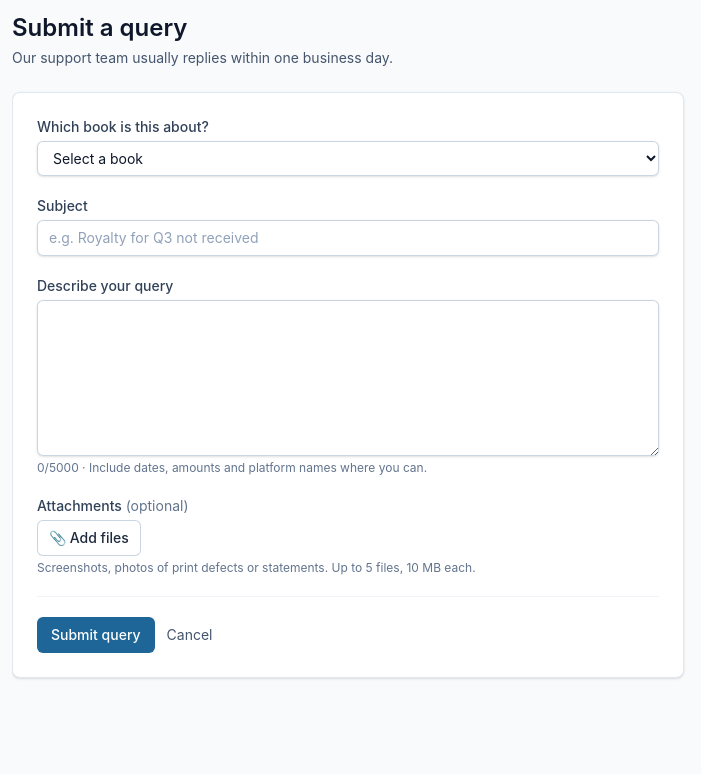
Test: new ticket form: server errors › puts field details on their inputs and (root)/attachment details in the form banner
The width and height of the screenshot is (701, 774).
Select "General / Account Level" in the dropdown labelled "Which book is this about?" at (348, 158), box x1=37 y1=141 x2=659 y2=176
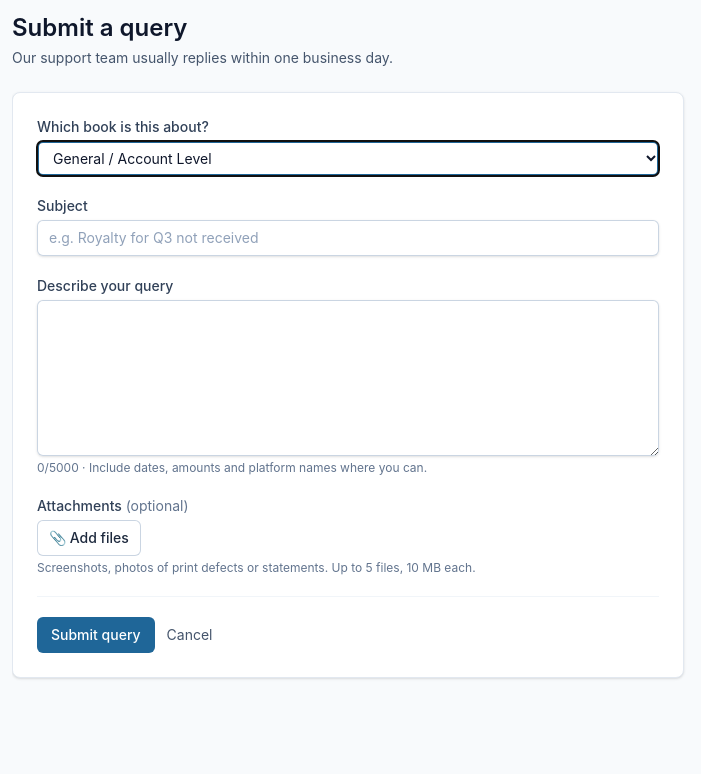
Type "Royalty question" into the field labelled "Subject" at (348, 238), box x1=37 y1=220 x2=659 y2=256
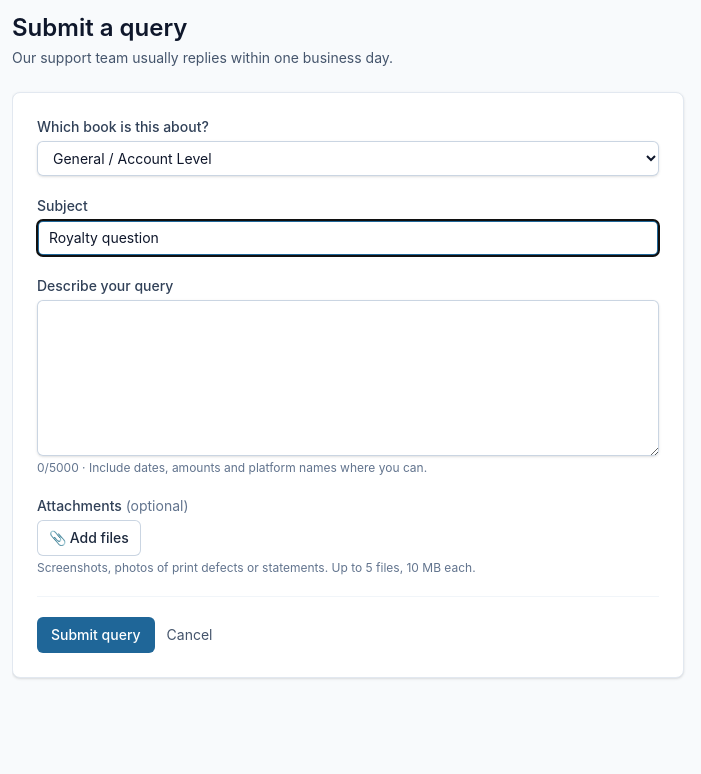
Type "When will my next payout arrive?" into the text box labelled "Describe your query" at (348, 378), box x1=37 y1=300 x2=659 y2=456
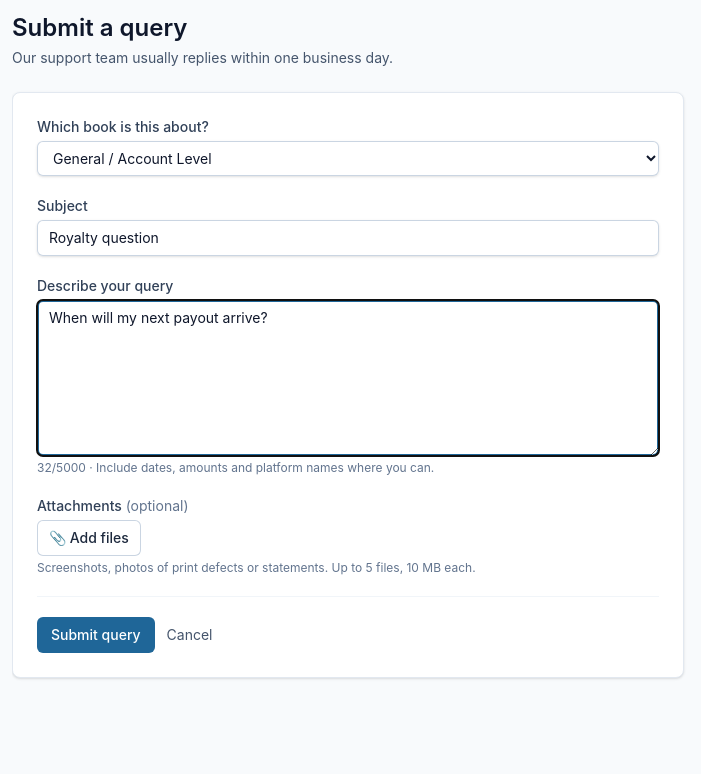
Click the button "Submit query" at (96, 635), box x1=37 y1=617 x2=155 y2=653
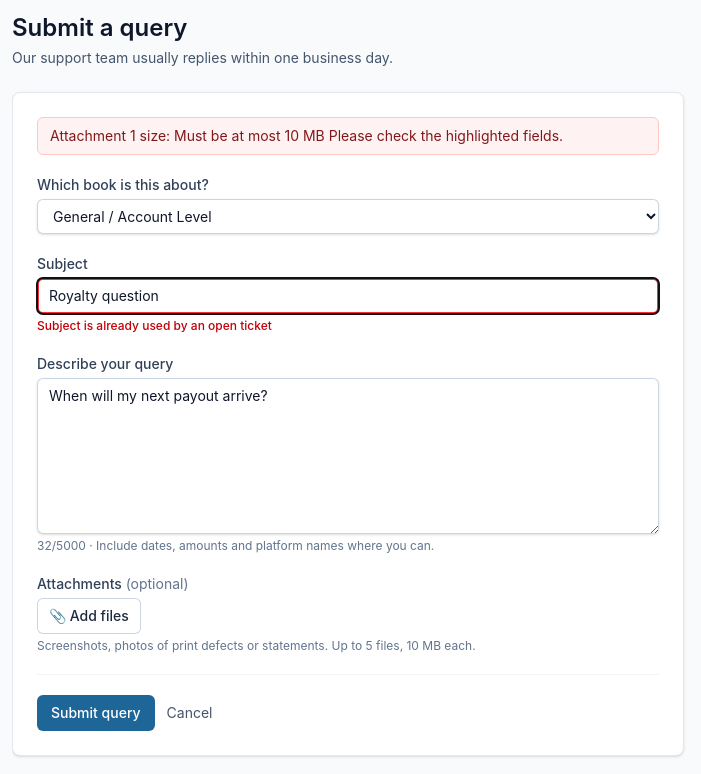
Check: the text "Subject is already used by an open ticket" is shown, box x1=37 y1=318 x2=272 y2=333
Check: the message reads "Attachment 1 size: Must be at most 10 MB Please check the highlighted fields.", box x1=50 y1=127 x2=563 y2=144
